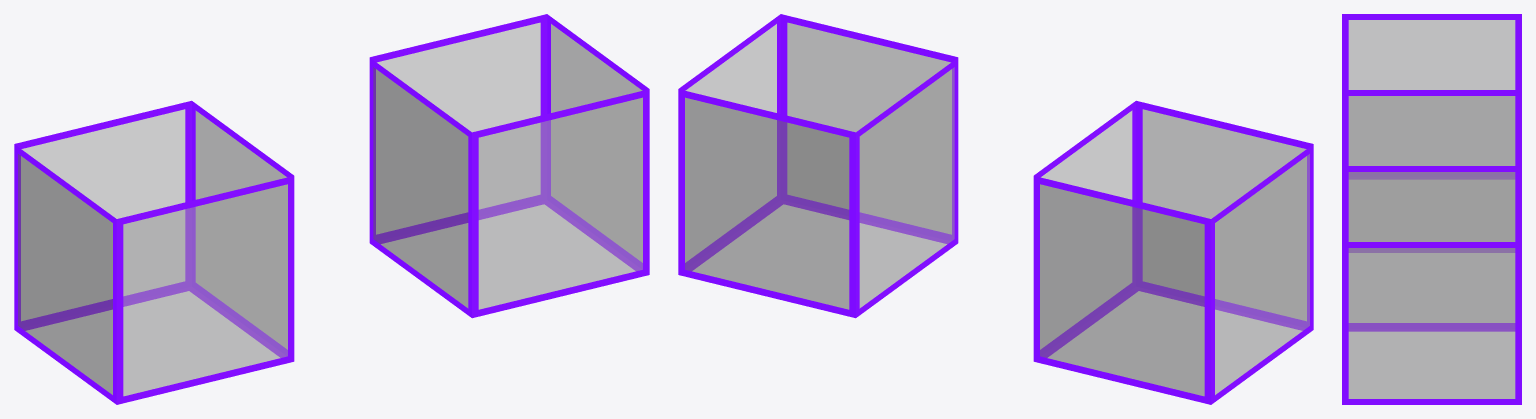
Rendered from (4)H GWall.fbx.
The picture shows the model from 3 angles, left to right: view 1: azimuth 30°, elevation 25°; view 2: azimuth 150°, elevation 25°; view 3: azimuth 270°, elevation 25°; orthographic projection. The views are drawn at different scales.
Parts seen in each view (by area): view 1: Wall.002, Wall.004; view 2: Wall.002, Wall.004; view 3: Wall.004, Wall.002.
Part boxes in pixels (<box>): Wall.002: <box>14,100,294,404</box>; Wall.004: <box>369,14,649,318</box>; Wall.002: <box>1033,100,1313,404</box>; Wall.004: <box>678,14,958,318</box>; Wall.004: <box>1342,166,1521,404</box>; Wall.002: <box>1342,14,1521,252</box>.
Bounding box in the file's own units: 600 × 200 × 200.
